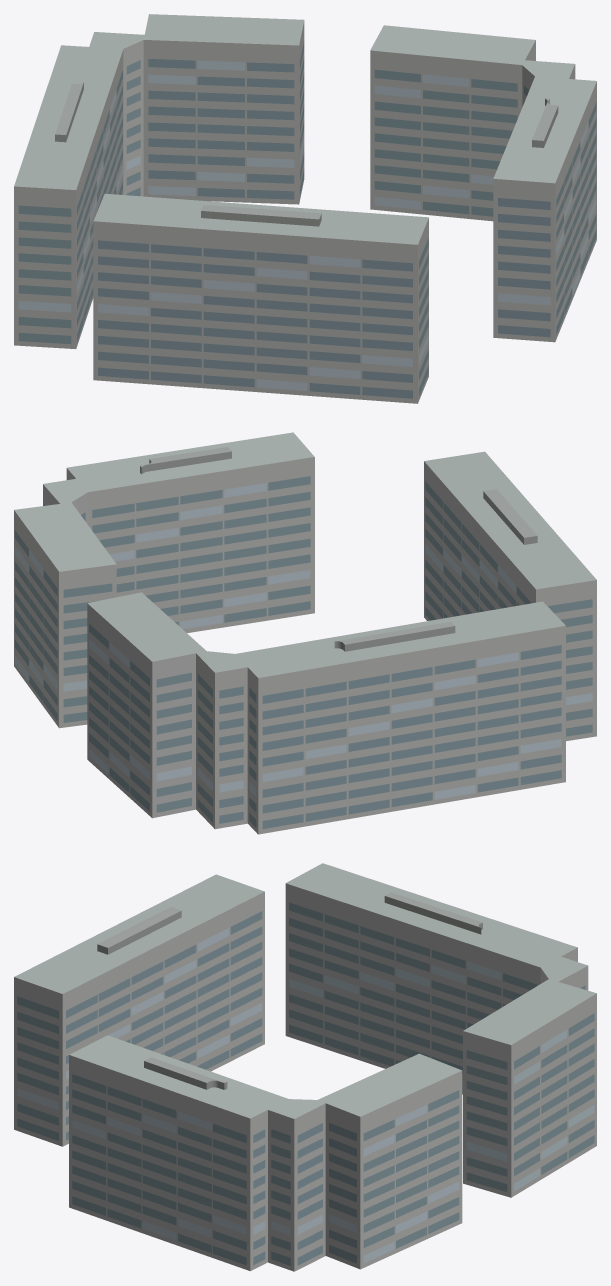
File: apt-a15609501.glb
3 renders of one model, top to bottom at view 1: azimuth 30°, elevation 25°; view 2: azimuth 150°, elevation 25°; view 3: azimuth 270°, elevation 25°, orthographic. The views are drawn at different scales.
Parts seen in each view (by area): view 1: apt-a15609501; view 2: apt-a15609501; view 3: apt-a15609501.
Boxes of the visible parts, x1,y1,x2,y2 form: apt-a15609501: (14,14,596,403); apt-a15609501: (14,432,596,834); apt-a15609501: (14,863,596,1271).
Size of the model in its own units: 110 by 31.87 by 106.
